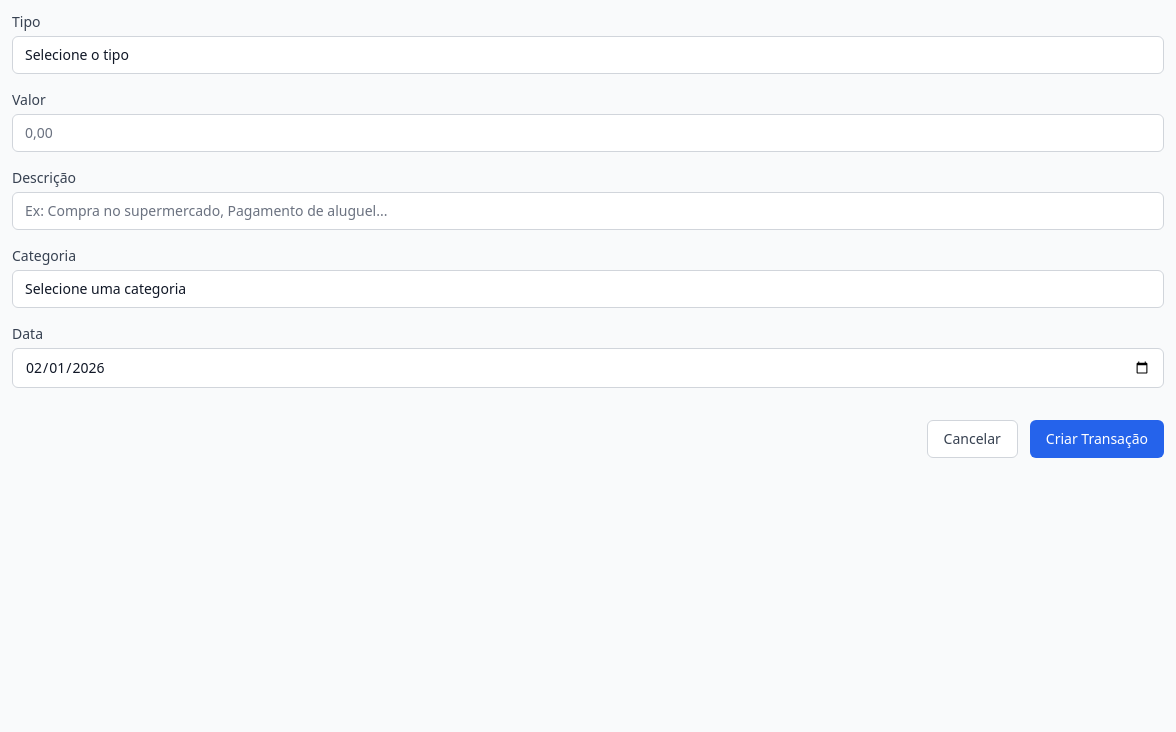
Test: TransactionForm › Form Validation - Requirement 3.1 › should show error when valor is zero
Type "0" into the number field labelled "Valor" at (588, 133), box [12,114,1164,152]
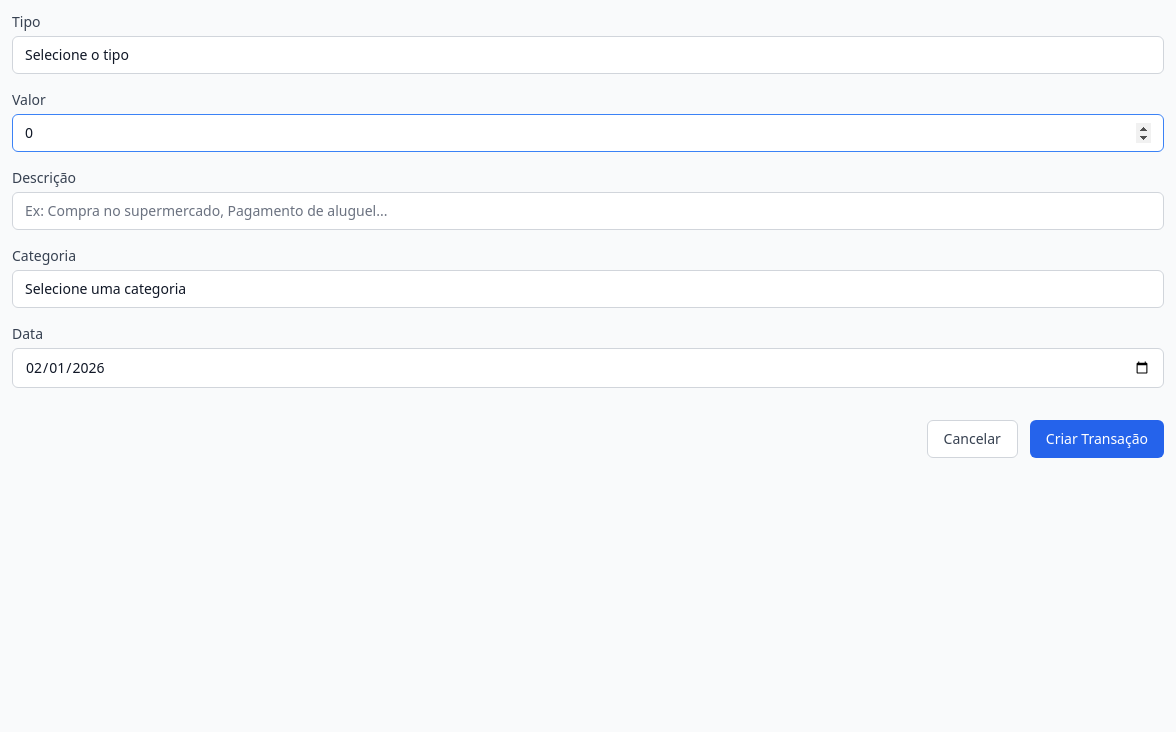
Click the button "Criar Transação" at (1097, 439), box [1030,420,1164,458]
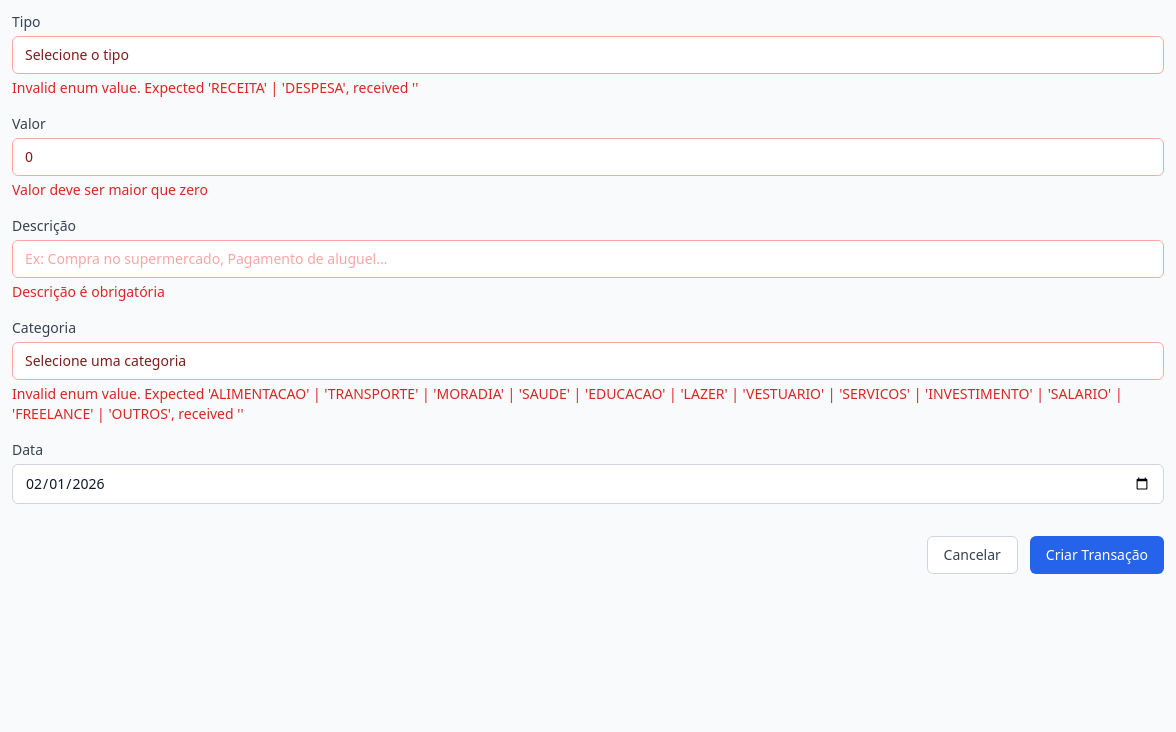
Expected: the text "Valor deve ser maior que zero" is shown, [12,180,208,199]
